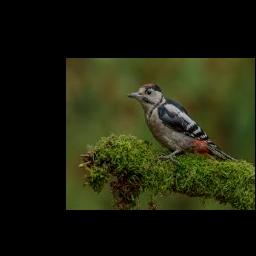Woodpecker: (127, 83, 238, 162)
